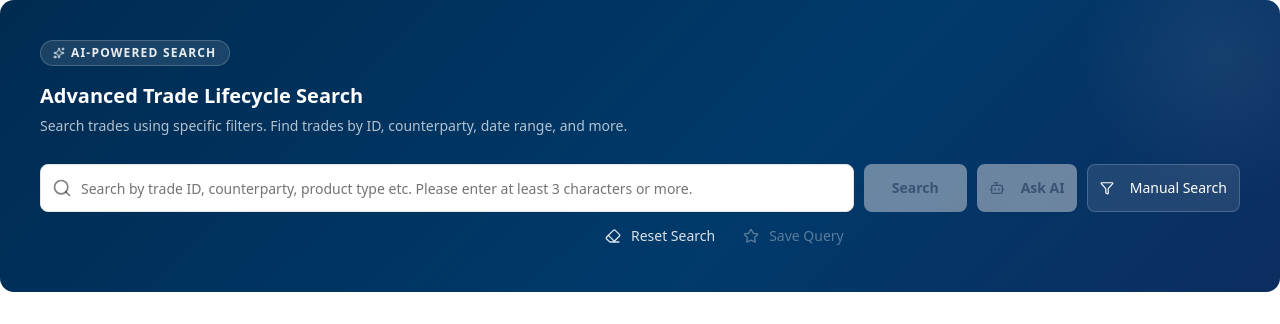
Test: SearchHeader › Suggestions › should display suggestions when available
Step 1. Click the field with placeholder "Search by trade ID, counterparty, product type" → (447, 188), box [40,164,854,212]
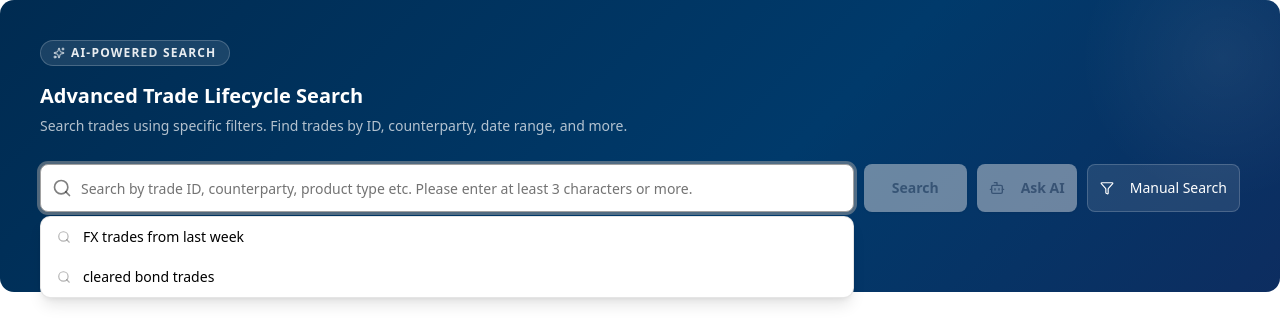
expect the text "FX trades from last week" is shown: met, box [83,227,244,247]
expect the text "cleared bond trades" is shown: met, box [83,267,214,287]
